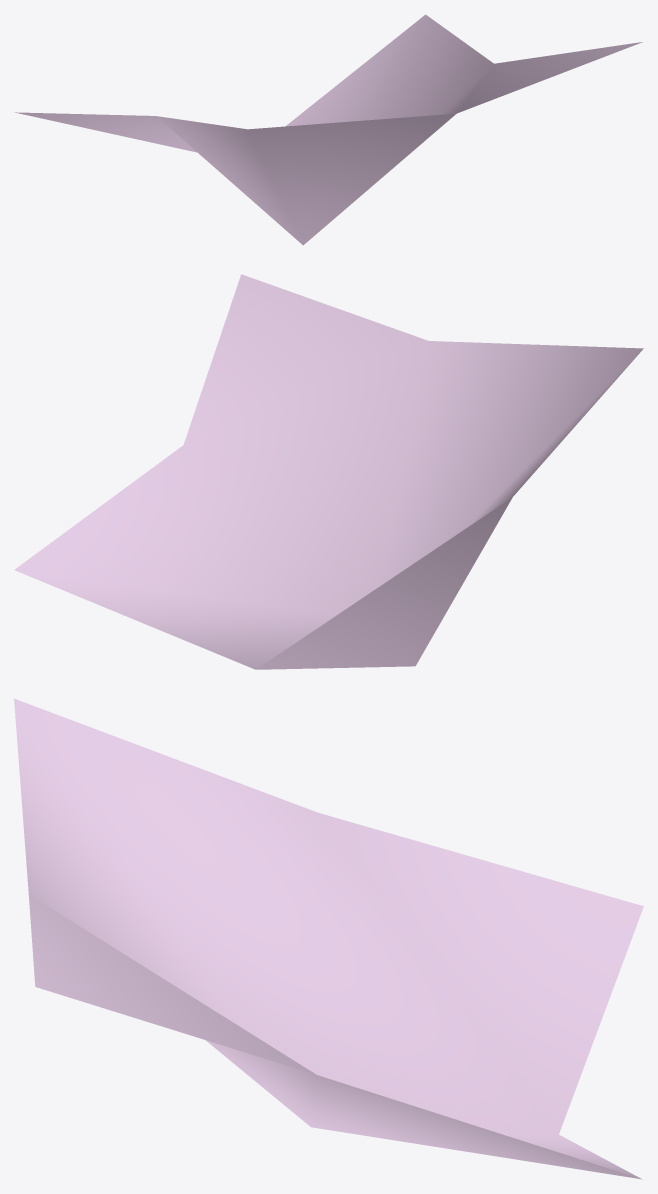
3 renders of one model, top to bottom at view 1: azimuth 30°, elevation 25°; view 2: azimuth 150°, elevation 25°; view 3: azimuth 270°, elevation 25°, orthographic. The views are drawn at different scales.
Parts seen in each view (by area): view 1: Object02; view 2: Object02; view 3: Object02.
Part boxes in pixels (x1,y1,x2,y2): Object02: (14, 14, 642, 245); Object02: (14, 274, 643, 669); Object02: (14, 698, 643, 1179).
Size of the model in its own units: 19165 by 10568 by 18866.
